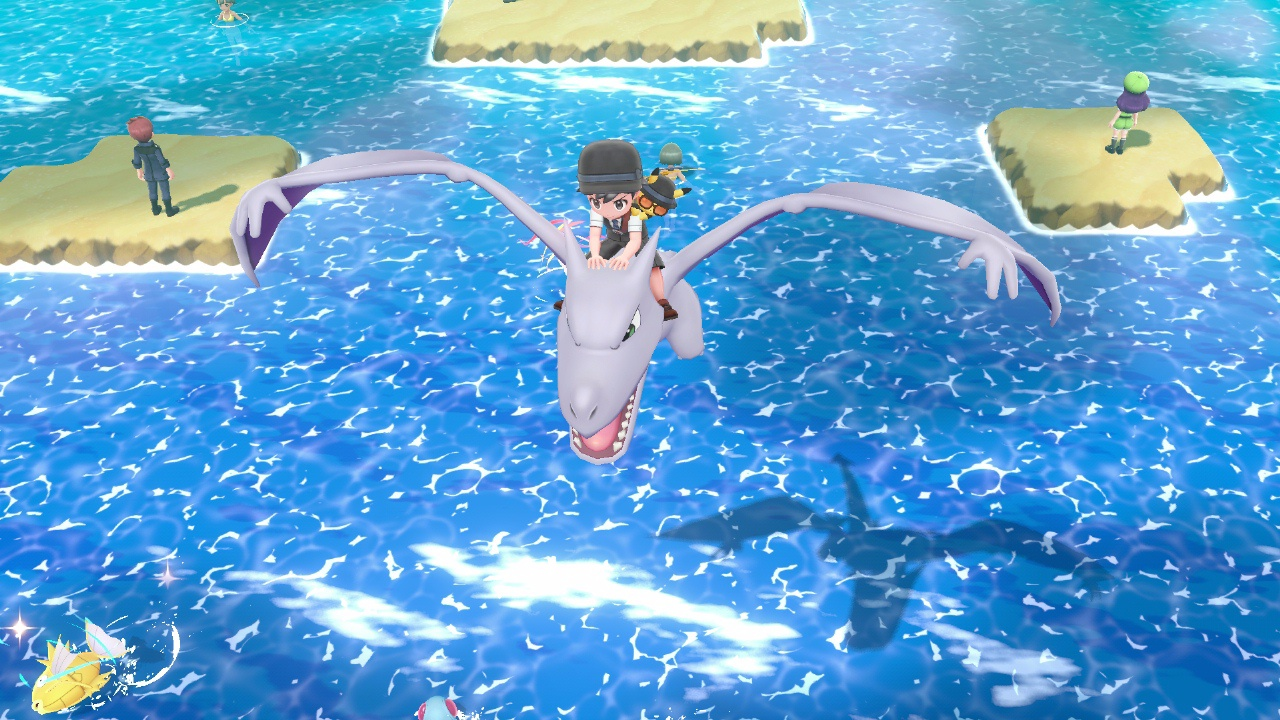Golden: (32, 623, 128, 714)
